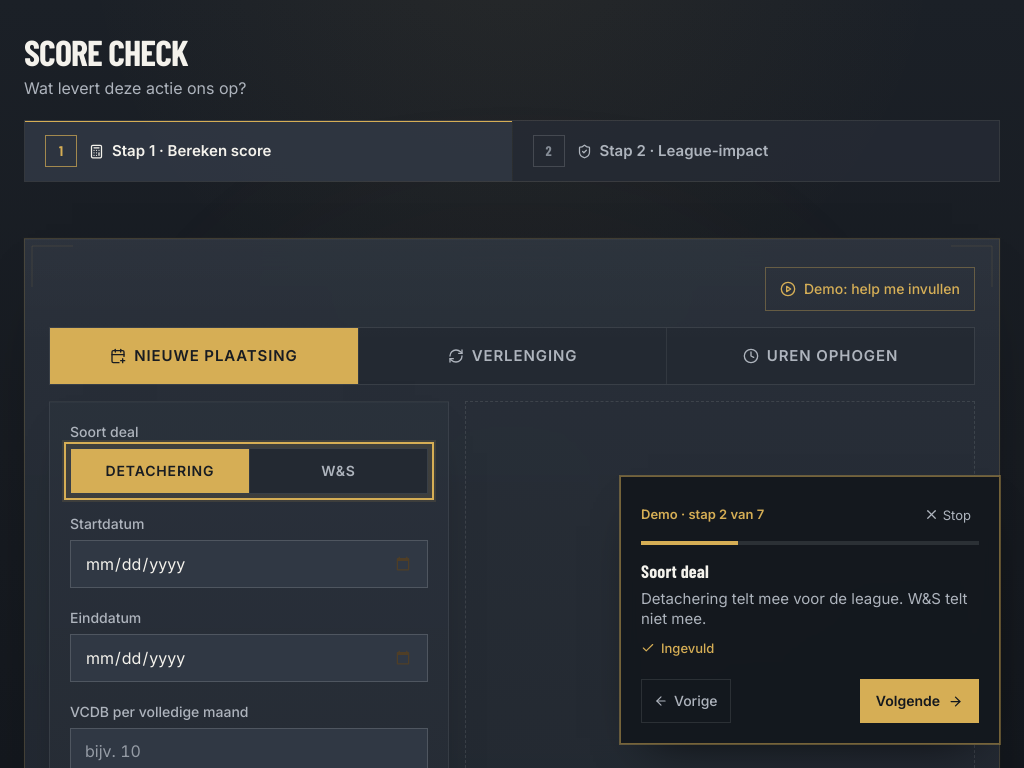
Test: Score Check demo › walks through every field, fills in the example and ends on the score
Earlier steps of the test are not shown.
Click the button "Volgende". click: [919, 701]
box: [860, 679, 979, 723]
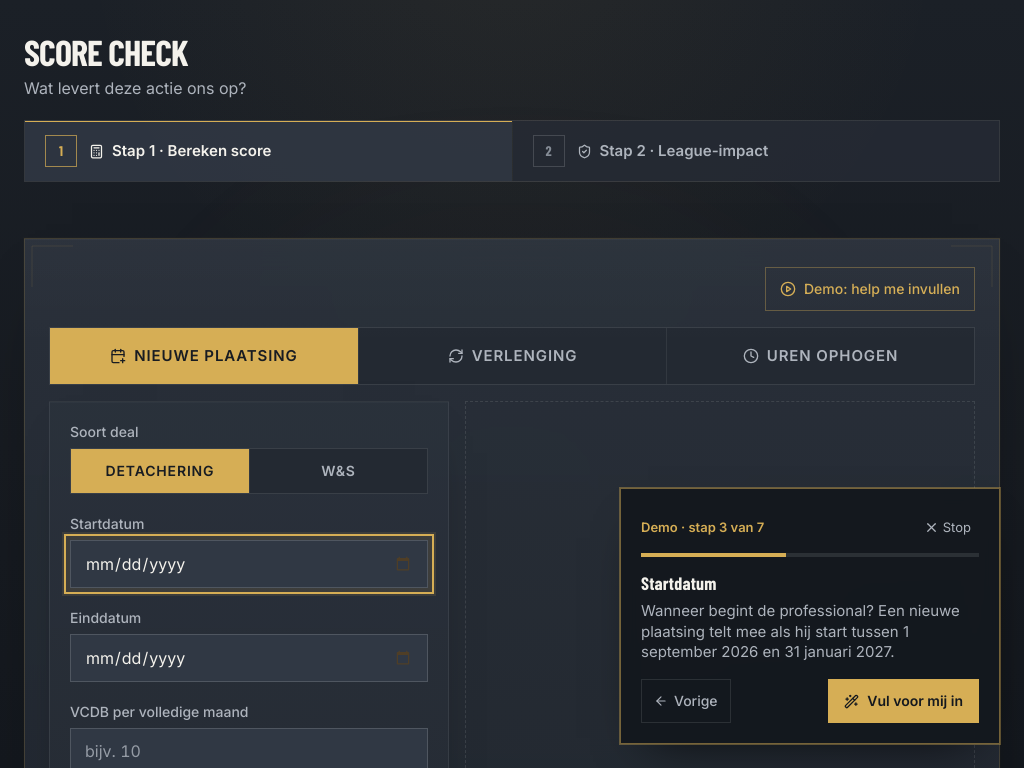
Check: the heading "Startdatum" is shown, box [641, 572, 717, 594]
Click the button "Vul voor mij in". click: [904, 701]
box: [828, 679, 979, 723]
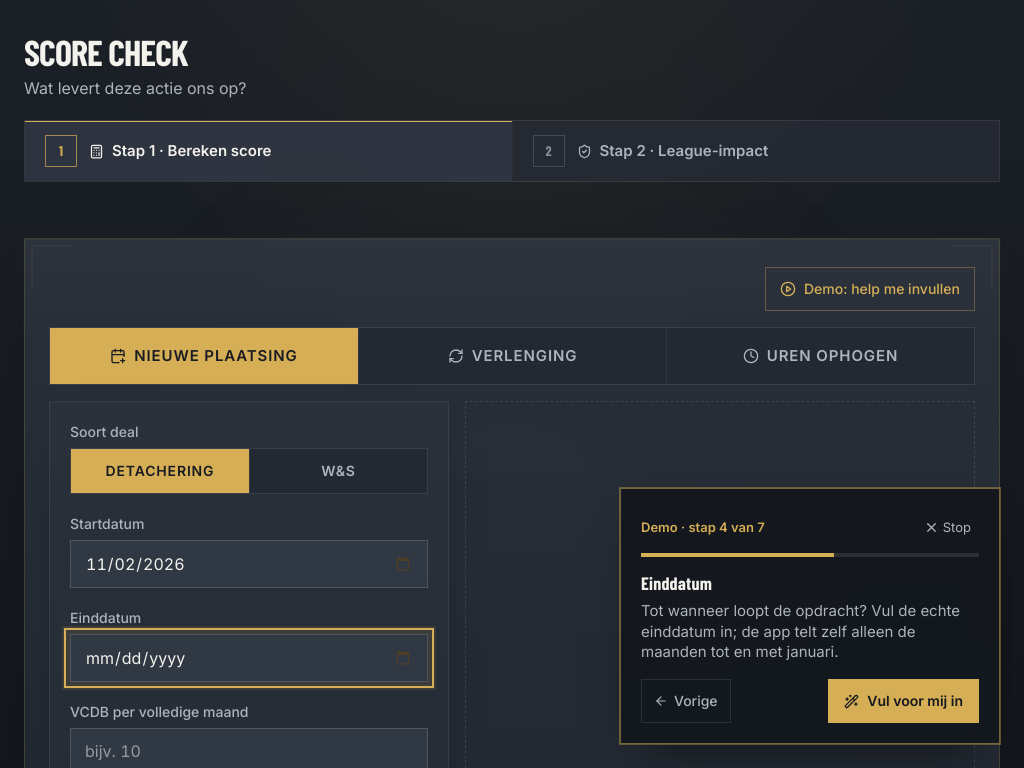
Check: the date field labelled "Startdatum" holds "2026-11-02", box [70, 540, 428, 588]
Click the button "Vul voor mij in". click: [904, 701]
box: [828, 679, 979, 723]
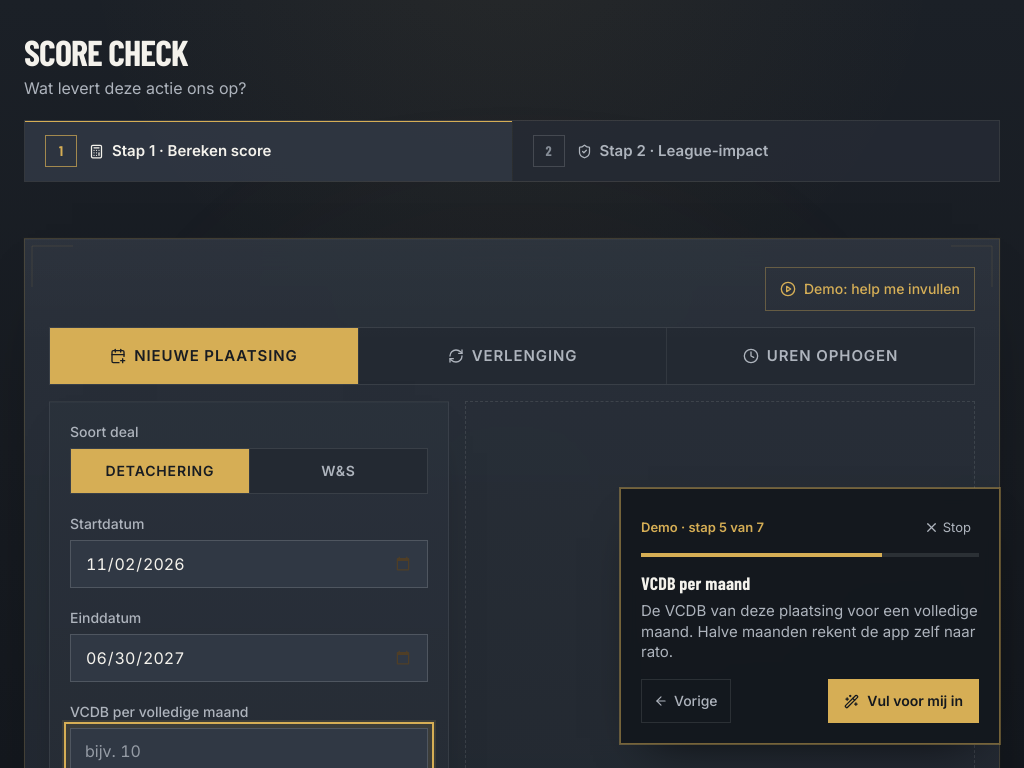
Check: the date field labelled "Einddatum" holds "2027-06-30", box [70, 634, 428, 682]
Click the button "Vul voor mij in". click: [904, 701]
box: [828, 679, 979, 723]
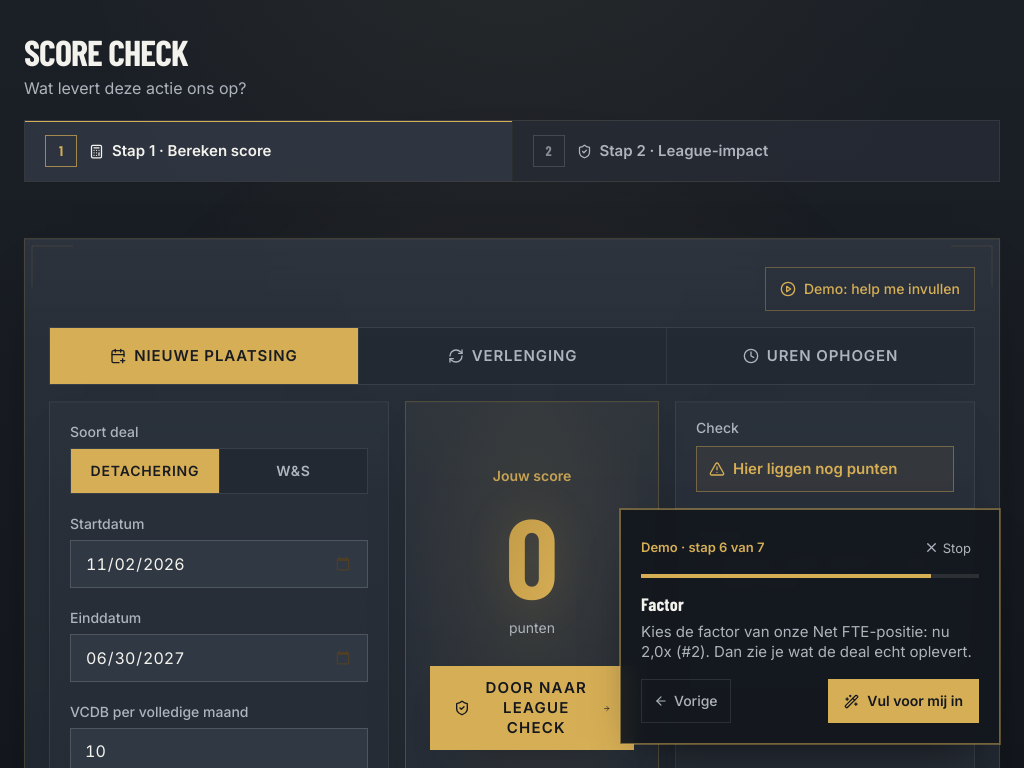
Check: the heading "Factor" is shown, box [641, 593, 684, 615]
Click the button "Vul voor mij in". click: [904, 701]
box: [828, 679, 979, 723]
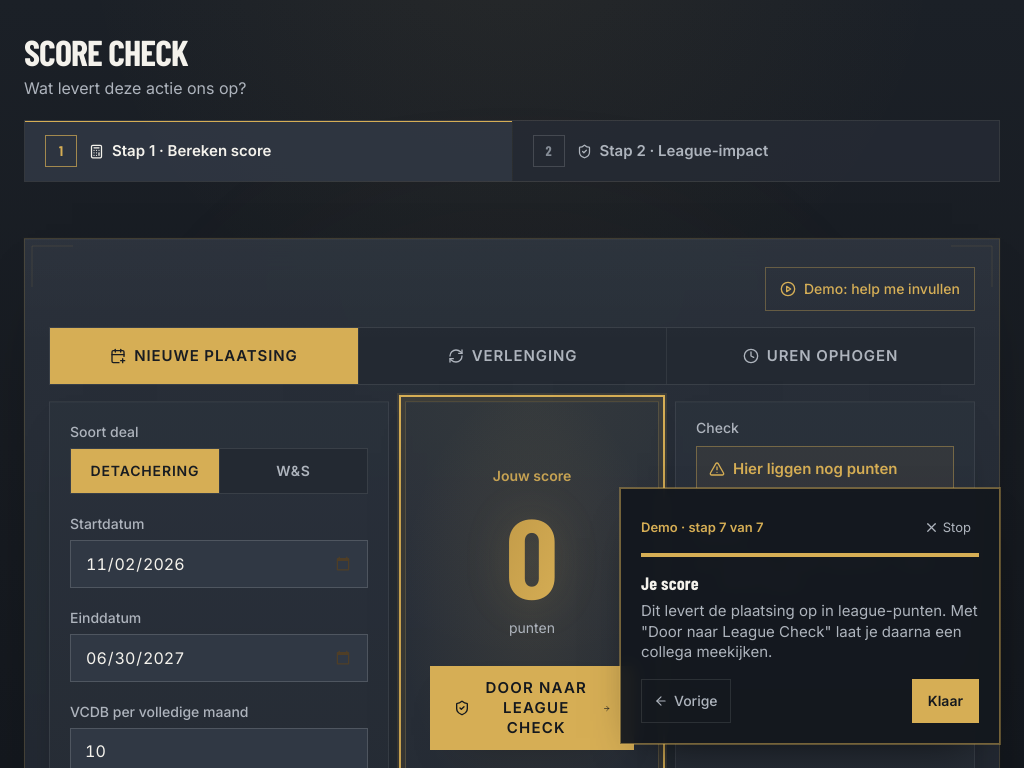
Check: the text "Jouw score" is shown, box [493, 467, 571, 484]
Check: the heading "Je score" is shown, box [641, 572, 699, 594]
Click the button "Klaar". click: [945, 701]
box: [912, 679, 979, 723]
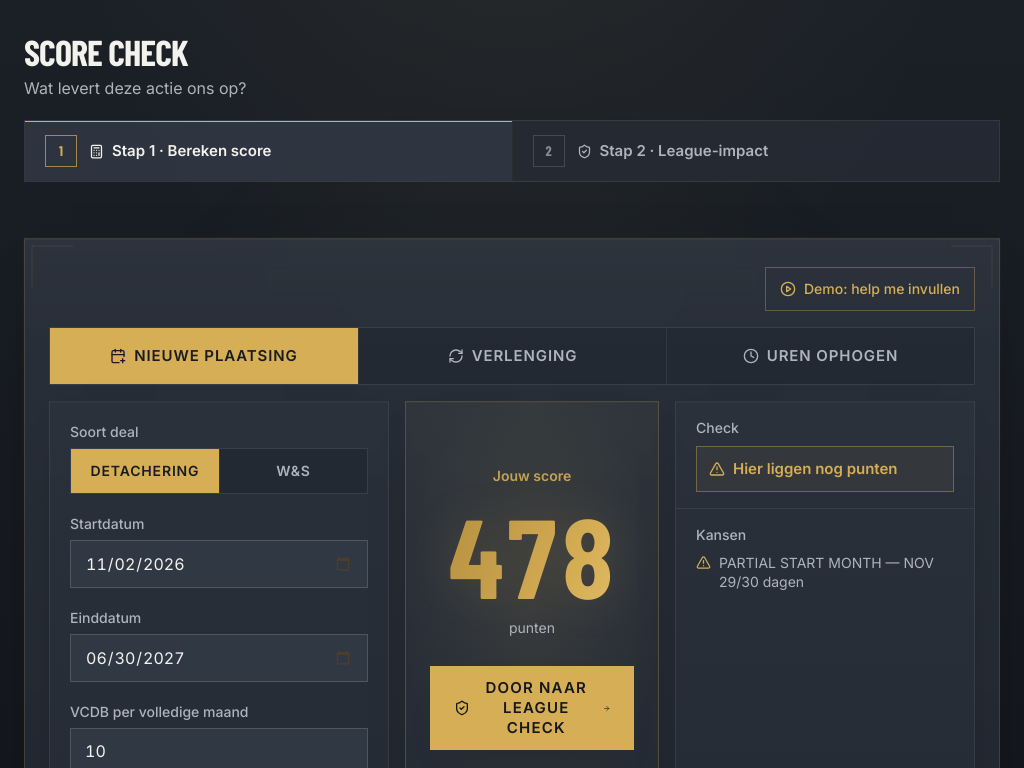
Check: the dialog with test id "demo-coach" is gone
